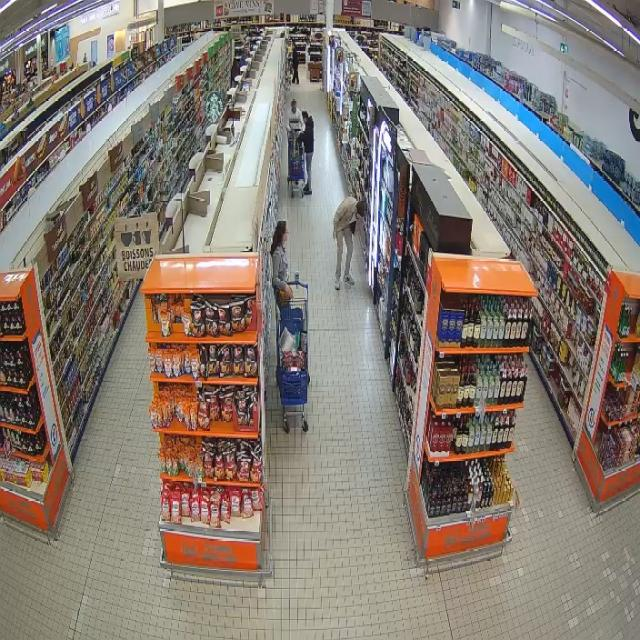bags: (277, 290, 292, 307)
person: (335, 197, 365, 289), (270, 220, 292, 297), (299, 112, 314, 193), (287, 99, 303, 130)
